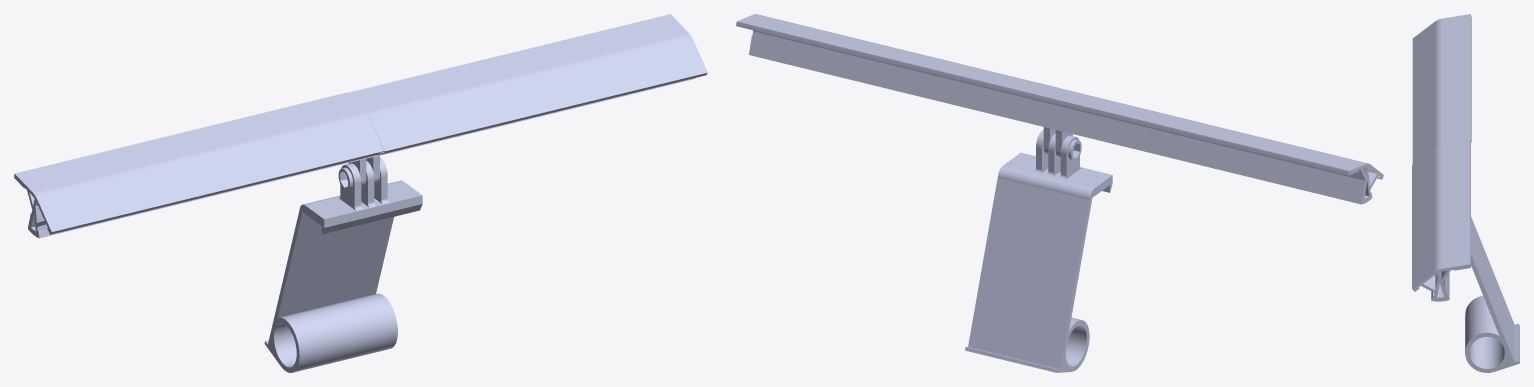
File: blinkrite-lightbar.glb
The picture shows the model from 3 angles, left to right: view 1: azimuth 30°, elevation 25°; view 2: azimuth 150°, elevation 25°; view 3: azimuth 270°, elevation 25°; orthographic projection. The views are drawn at different scales.
Visible parts, largest first — view 1: Light Bar - Left-2, Light Bar - Right-1, Mount-1; view 2: Mount-1, Light Bar - Left-2, Light Bar - Right-1; view 3: Light Bar - Right-1, Light Bar - Left-2, Mount-1.
Boxes of the visible parts, x1,y1,x2,y2 form: Light Bar - Left-2: (14, 92, 384, 238); Light Bar - Right-1: (348, 14, 707, 184); Mount-1: (264, 157, 422, 372); Mount-1: (965, 130, 1112, 372); Light Bar - Left-2: (1038, 87, 1383, 204); Light Bar - Right-1: (736, 14, 1058, 154); Light Bar - Right-1: (1412, 141, 1470, 301); Light Bar - Left-2: (1412, 14, 1471, 164); Mount-1: (1465, 216, 1519, 372).
Size of the model in its own units: 0.3999 by 0.1596 by 0.0728.
